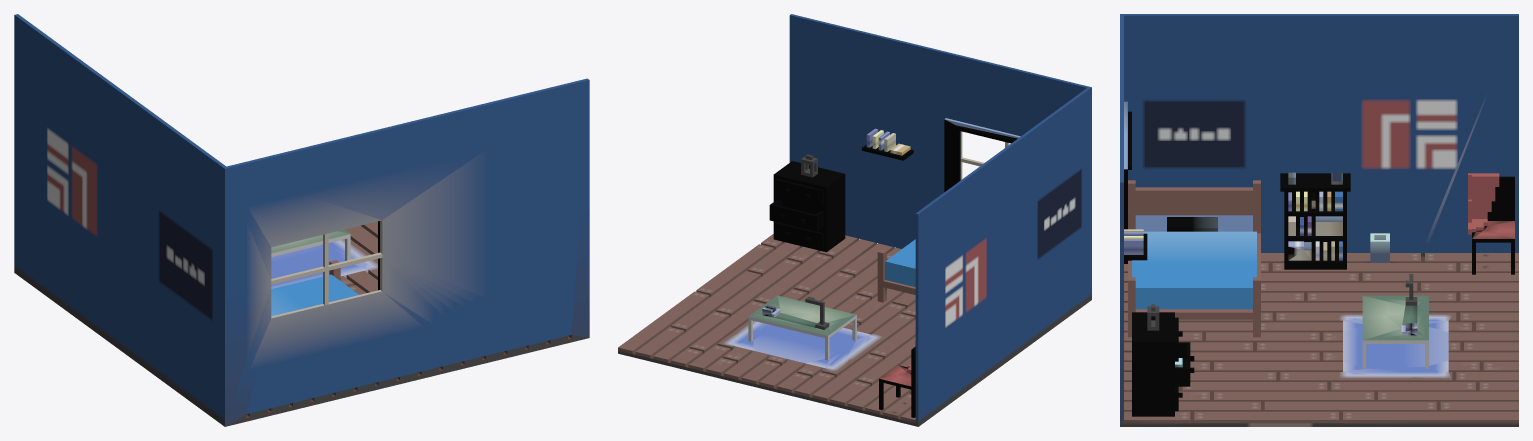
Rendered from bedroom.dae.
3 views of the same model, side by side, from view 1: azimuth 30°, elevation 25°; view 2: azimuth 150°, elevation 25°; view 3: azimuth 270°, elevation 25° (orthographic). The views are drawn at different scales.
Visible parts, largest first — view 1: bedroom.merged; view 2: bedroom.merged; view 3: bedroom.merged.
Part boxes in pixels (x1,y1,x2,y2): bedroom.merged: (14, 14, 589, 426); bedroom.merged: (618, 14, 1091, 426); bedroom.merged: (1120, 14, 1518, 426).
Size of the model in its own units: 10.2 by 10.2 by 6.9.
Materials: 1 (1 with a texture image).
